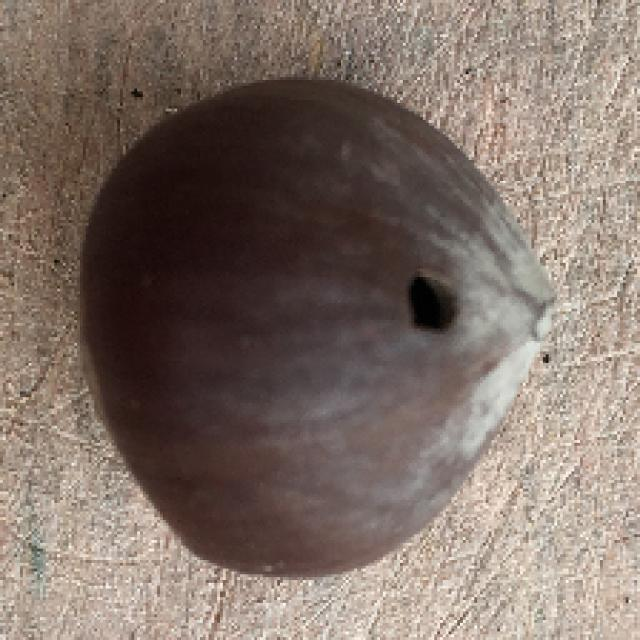damagedHazelnut: (71, 68, 564, 578)
